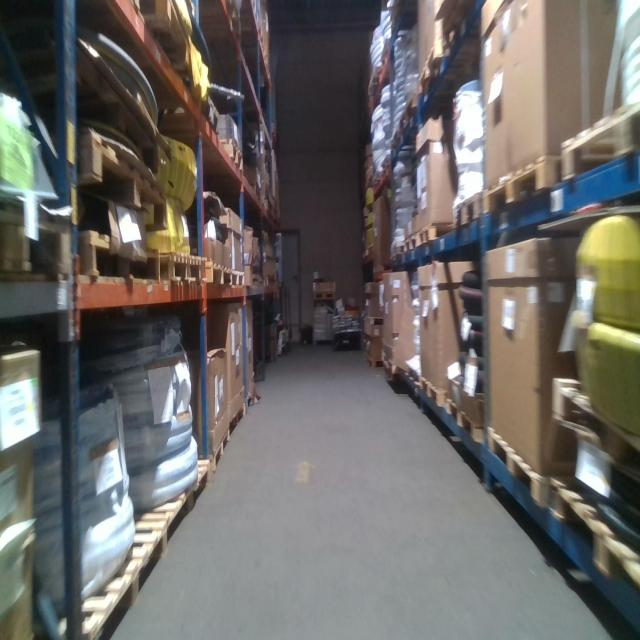pallet: (48, 521, 164, 638), (548, 475, 640, 596), (73, 124, 169, 229), (132, 456, 211, 545), (560, 102, 639, 183), (118, 4, 196, 84), (487, 422, 555, 508), (2, 202, 74, 281), (483, 151, 558, 219), (78, 225, 161, 286), (435, 3, 477, 60), (445, 398, 486, 445), (160, 250, 206, 283), (418, 41, 441, 101), (453, 192, 485, 234), (198, 86, 222, 137), (210, 423, 230, 473), (419, 375, 449, 406), (417, 223, 449, 251), (400, 95, 419, 138), (219, 137, 242, 172), (229, 400, 247, 440), (382, 352, 405, 383), (208, 261, 233, 288), (364, 351, 385, 368), (390, 127, 401, 159), (404, 233, 419, 255), (232, 268, 246, 290), (406, 365, 420, 384), (313, 290, 336, 299), (362, 315, 382, 325)
